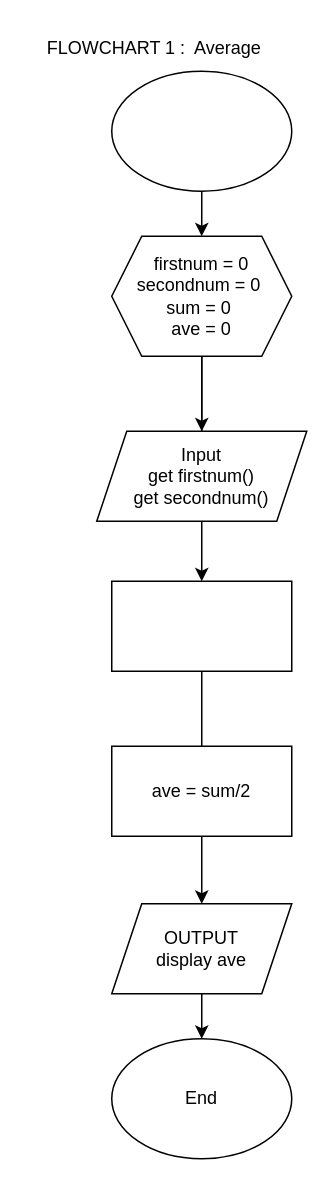
The diagram is 333 pixels wide and 1185 high, and some of its shapes have lost their labels. The shapes that lost their labels are listed below. From the top down, each one's centre as x and y in pixels, then its label:
(x=201, y=130): Start
(x=201, y=625): sum = firstnum + secondnum
